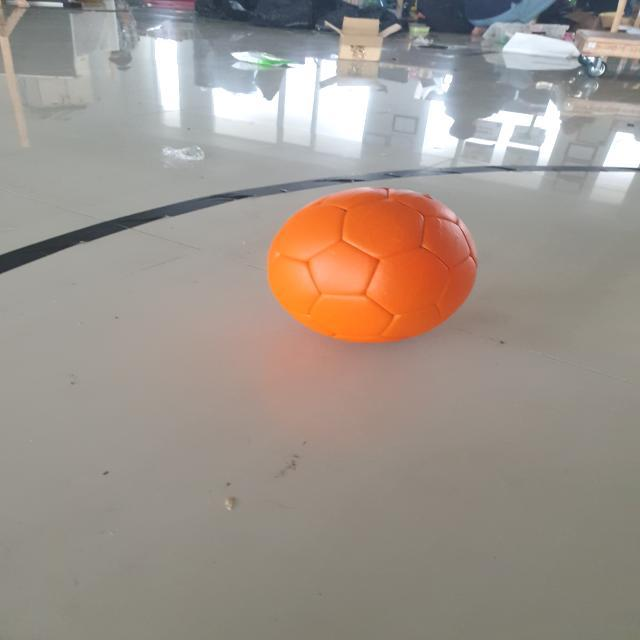bola: (256, 174, 499, 372)
